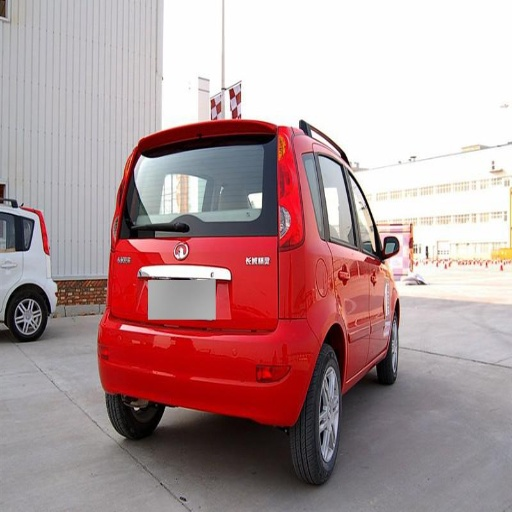back_bumper: (98, 314, 321, 423)
back_right_door: (308, 153, 367, 367)
trunk: (112, 224, 300, 354)
